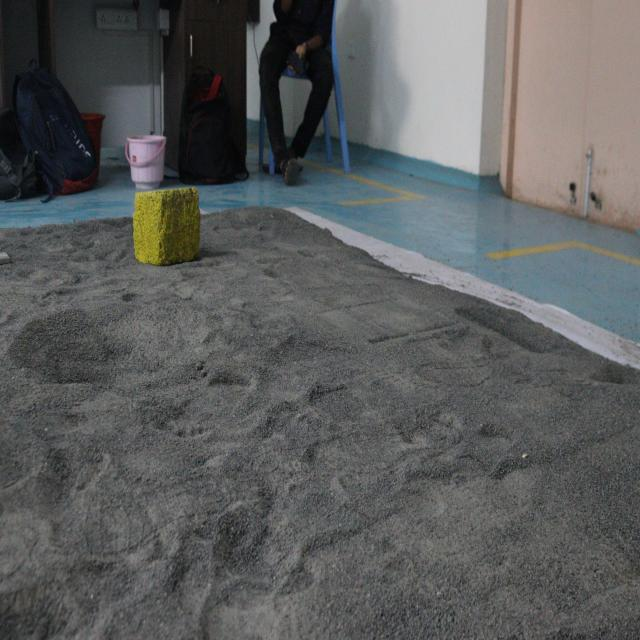box: (130, 184, 204, 264)
crater: (0, 293, 193, 402)
